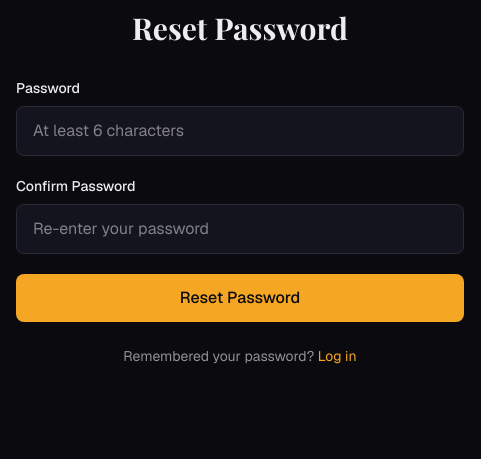
ResetPasswordPage › shows error message on API failure
The image size is (481, 459).
Type "newpassword123" into the password field labelled "Password" at (240, 131), box x1=16 y1=106 x2=464 y2=156
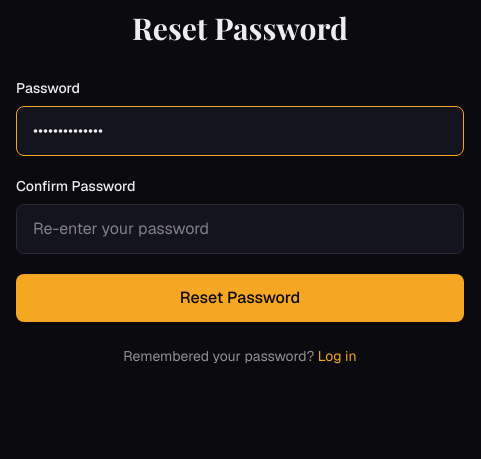
Type "newpassword123" into the password field labelled "Confirm Password" at (240, 229), box x1=16 y1=204 x2=464 y2=254
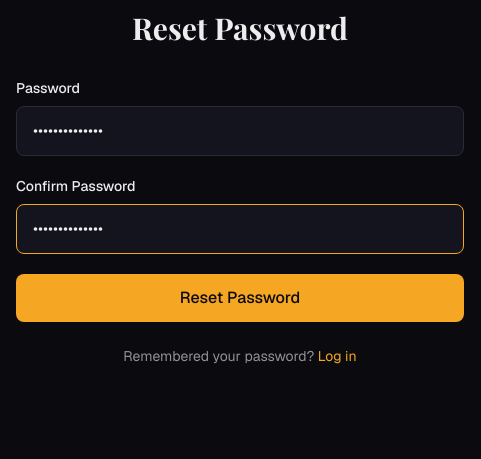
Click the button "Reset Password" at (240, 298), box x1=16 y1=274 x2=464 y2=322
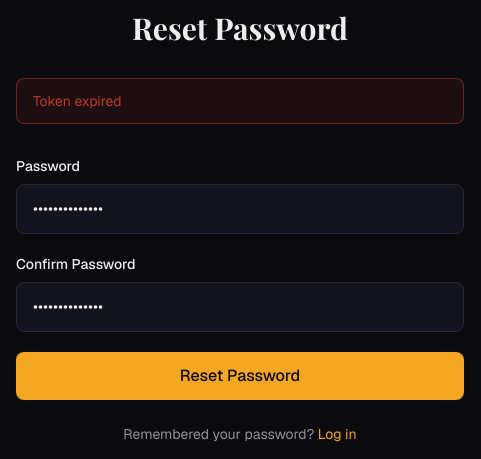
Expected: the text "Token expired" is shown, x1=16 y1=78 x2=464 y2=124
